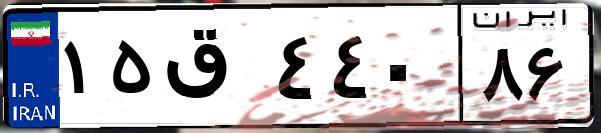0: (385, 28, 445, 110)
1: (57, 26, 110, 100)
4: (270, 28, 330, 110), (330, 28, 385, 110)
5: (110, 28, 158, 98)
6: (525, 38, 570, 115)
8: (475, 38, 525, 113)
ق: (158, 20, 270, 120)
